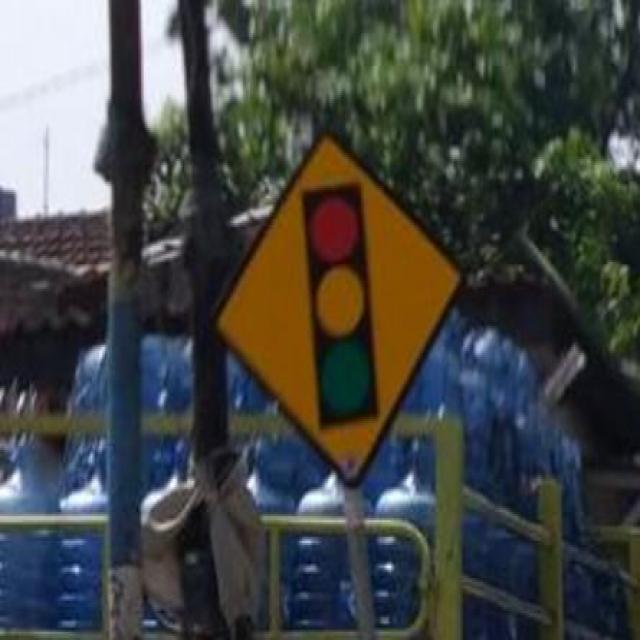traffic sign: (225, 138, 461, 474)
